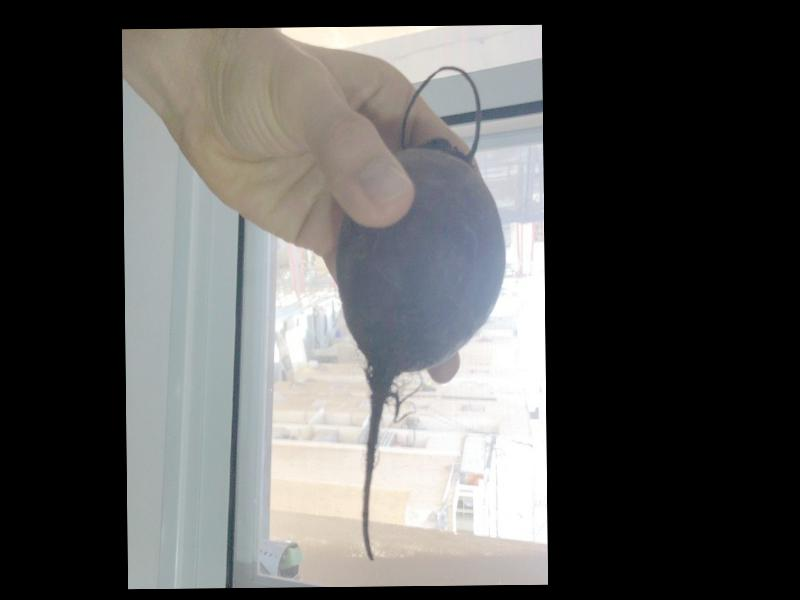Beet: (334, 67, 509, 562)
